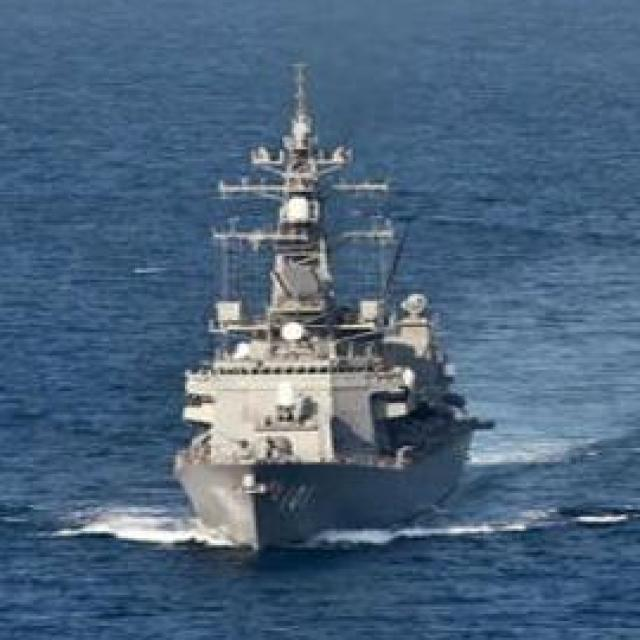navalvessels: (116, 64, 504, 557)
